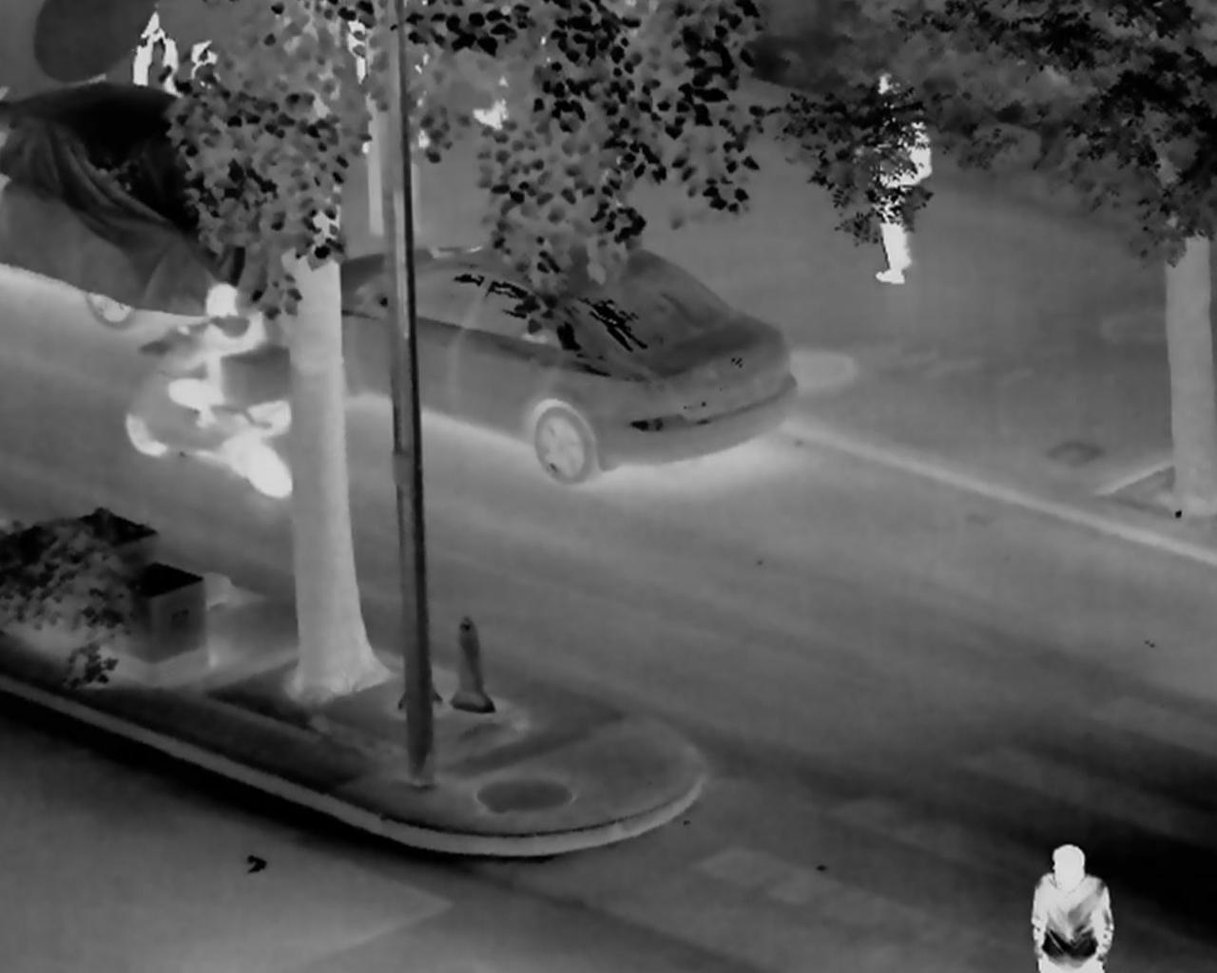person: (163, 280, 261, 431), (860, 75, 929, 289), (1028, 840, 1113, 970)
